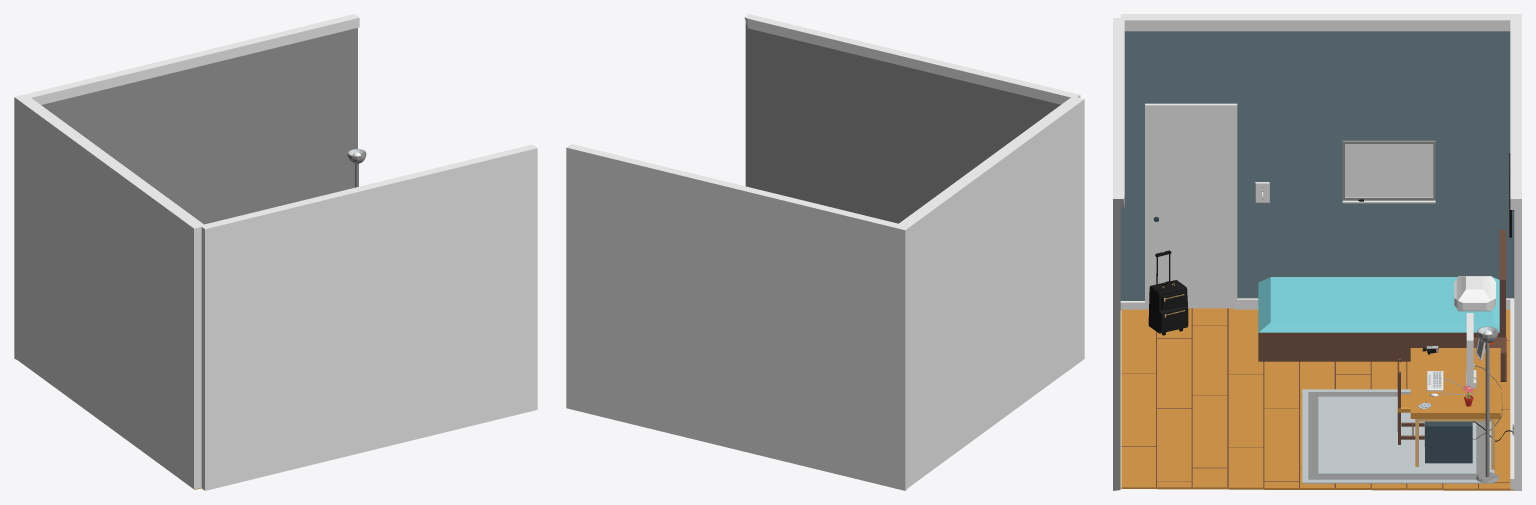
The model's file is room1.glb.
3 renders of one model, left to right at view 1: azimuth 30°, elevation 25°; view 2: azimuth 150°, elevation 25°; view 3: azimuth 270°, elevation 25°, orthographic. The views are drawn at different scales.
Parts seen in each view (by area): view 1: Node; view 2: Node; view 3: Node.
Boxes of the visible parts, bbox=[...] form: Node: bbox=[14, 14, 537, 490]; Node: bbox=[566, 14, 1084, 490]; Node: bbox=[1113, 14, 1521, 490].
Size of the model in its own units: 4.04 by 2.97 by 3.77.
